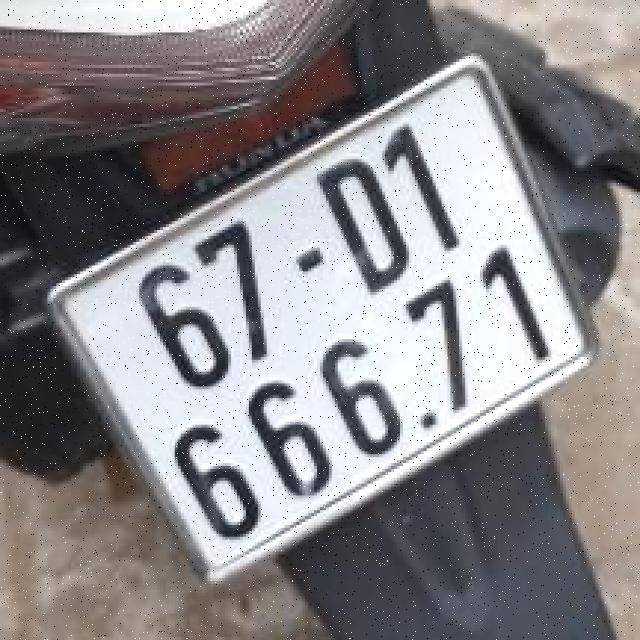1: (471, 230, 590, 394), (373, 110, 470, 276)
6: (115, 244, 260, 411), (154, 411, 284, 571), (297, 315, 421, 475), (232, 364, 353, 508)
7: (178, 203, 306, 379), (388, 266, 519, 436)
D: (295, 142, 432, 312)
